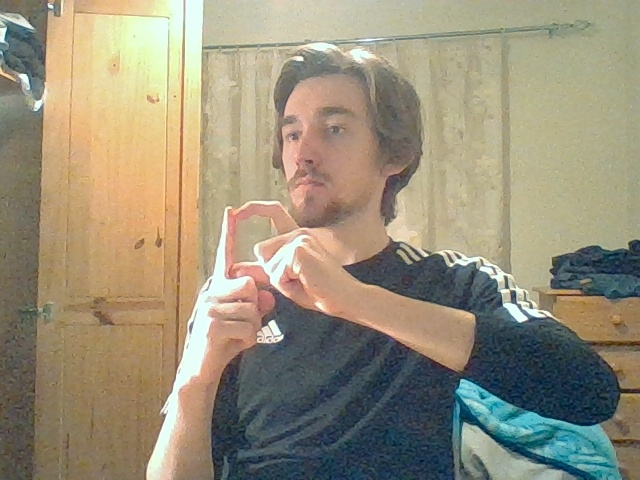daughter: (208, 200, 312, 332)
